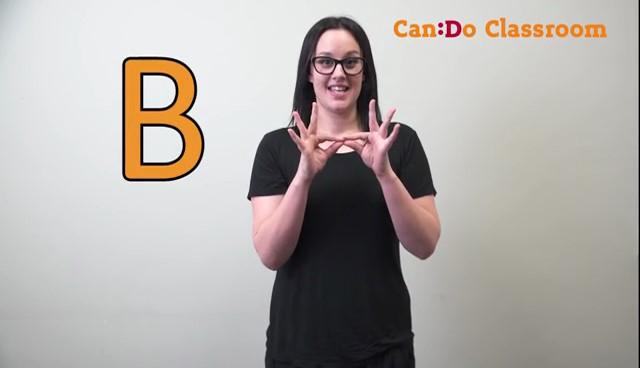B: (275, 88, 418, 182)
